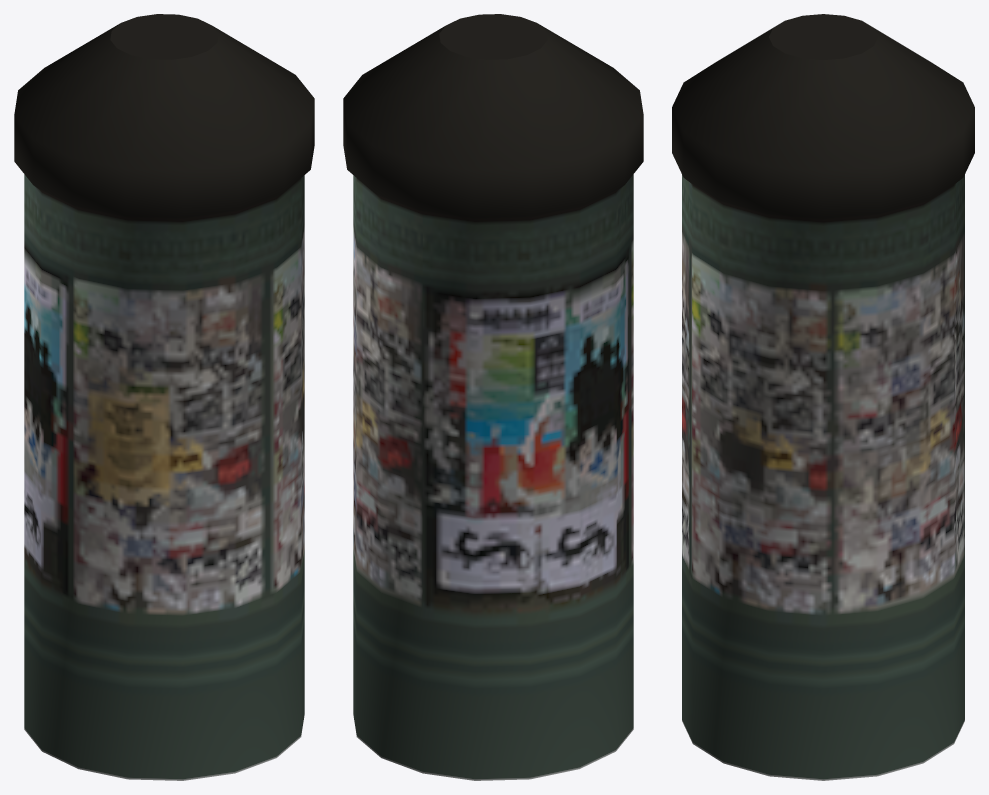
File: 00_03_outside_adcylinder.dae
The picture shows the model from 3 angles, left to right: view 1: azimuth 30°, elevation 25°; view 2: azimuth 150°, elevation 25°; view 3: azimuth 270°, elevation 25°; orthographic projection.
Parts seen in each view (by area): view 1: Adcylinder; view 2: Adcylinder; view 3: Adcylinder.
Boxes of the visible parts, box(x1,y1,x2,y2) form: Adcylinder: box(14, 14, 314, 780); Adcylinder: box(343, 14, 643, 780); Adcylinder: box(672, 14, 974, 780).
Bounding box in the file's own units: 2.06 × 5.13 × 2.06.
